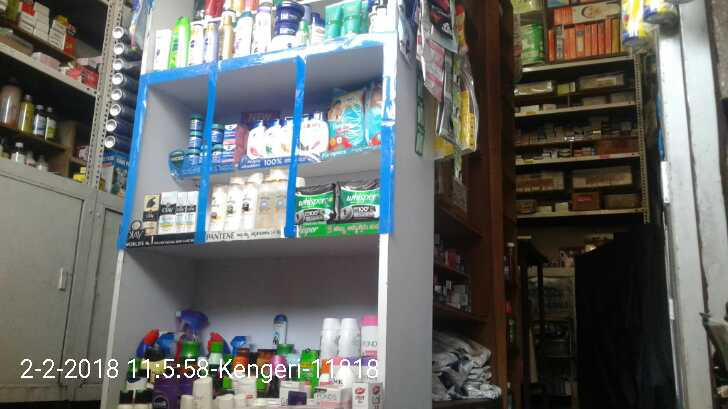beauty: (298, 110, 329, 152), (208, 181, 227, 232), (236, 183, 254, 232), (277, 115, 296, 157), (226, 180, 241, 233), (157, 191, 175, 235), (245, 120, 264, 160), (141, 194, 158, 238), (177, 190, 194, 231), (264, 117, 281, 158)
pharmacy: (326, 94, 363, 149), (336, 180, 378, 221), (298, 180, 331, 227), (211, 123, 221, 163), (184, 148, 204, 164), (221, 142, 237, 161), (187, 131, 201, 150), (225, 121, 236, 143), (188, 114, 201, 131)
